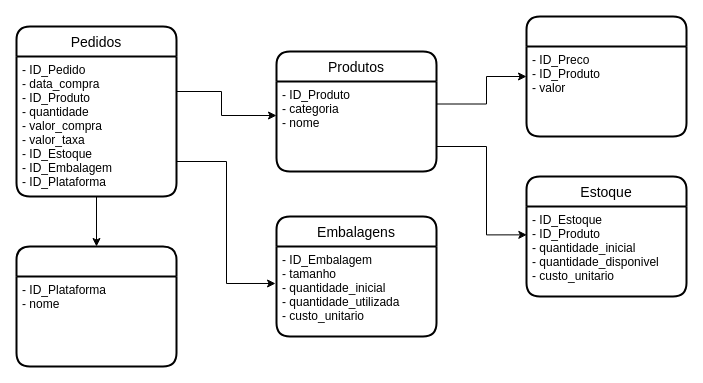
Image size: 703x383. Some labels were removed from this diagram. The box of each missing label's shape, as (x1, y1, x2, y2) in pixels:
Plataforma_de_Venda: (15, 245, 177, 367)
Preços: (525, 15, 687, 137)
